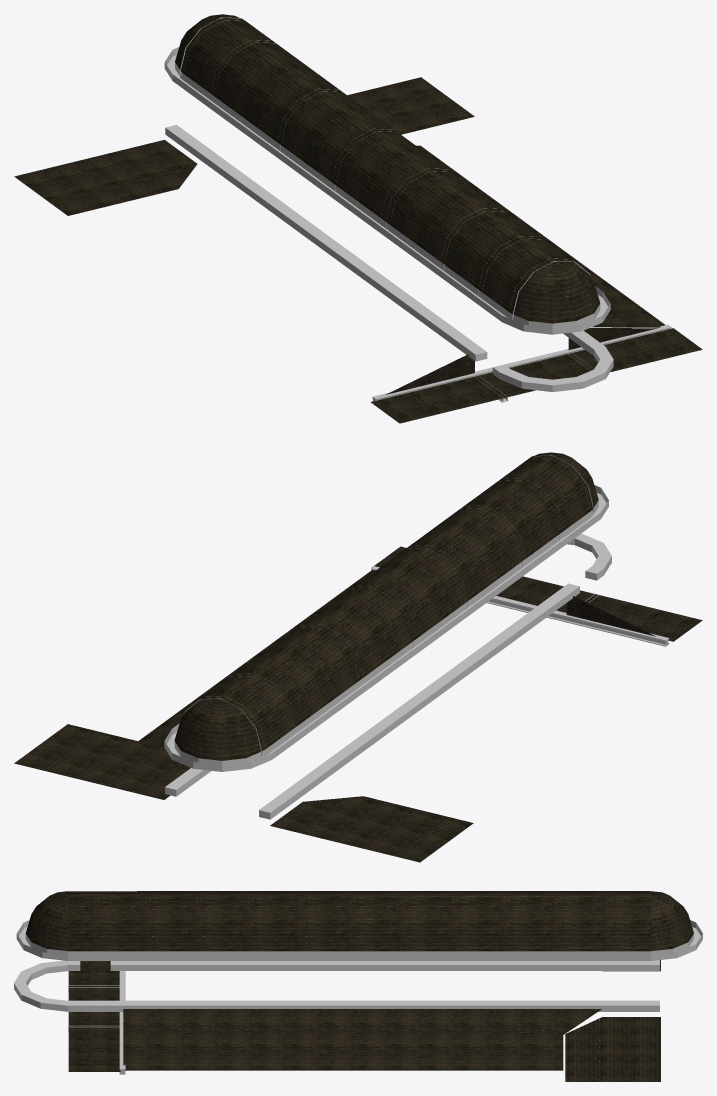
The model's file is church_roof02.DAE.
3 renders of one model, top to bottom at view 1: azimuth 30°, elevation 25°; view 2: azimuth 150°, elevation 25°; view 3: azimuth 270°, elevation 25°, orthographic. The views are drawn at different scales.
Parts seen in each view (by area): view 1: wooden_roof, roof_struts; view 2: wooden_roof, roof_struts; view 3: wooden_roof, roof_struts.
Part boxes in pixels (x1,y1,x2,y2): wooden_roof: (14, 14, 702, 423); roof_struts: (164, 17, 671, 402); wooden_roof: (14, 452, 702, 862); roof_struts: (164, 455, 669, 819); wooden_roof: (25, 891, 693, 1081); roof_struts: (14, 920, 702, 1074).
Size of the model in its own units: 34.46 by 57.07 by 10.58.
